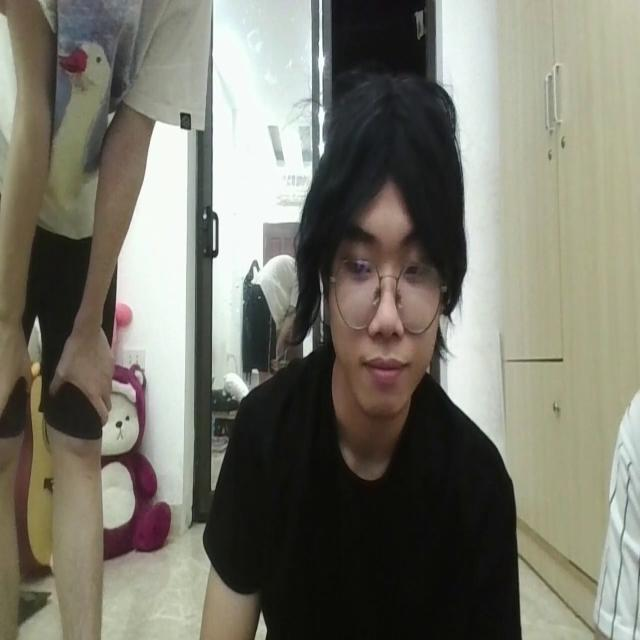extra_person: (1, 0, 167, 640)
student: (199, 73, 523, 640)
